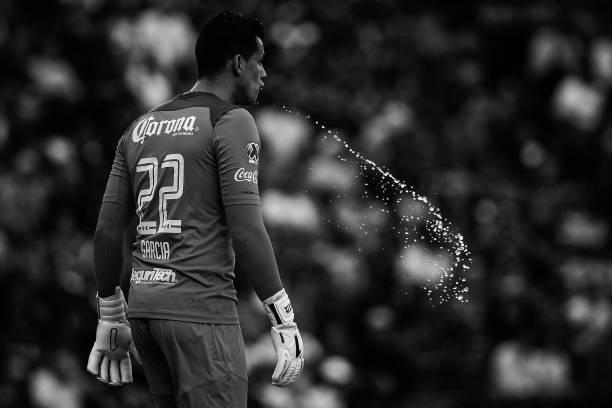Spitting: (159, 9, 366, 166)
